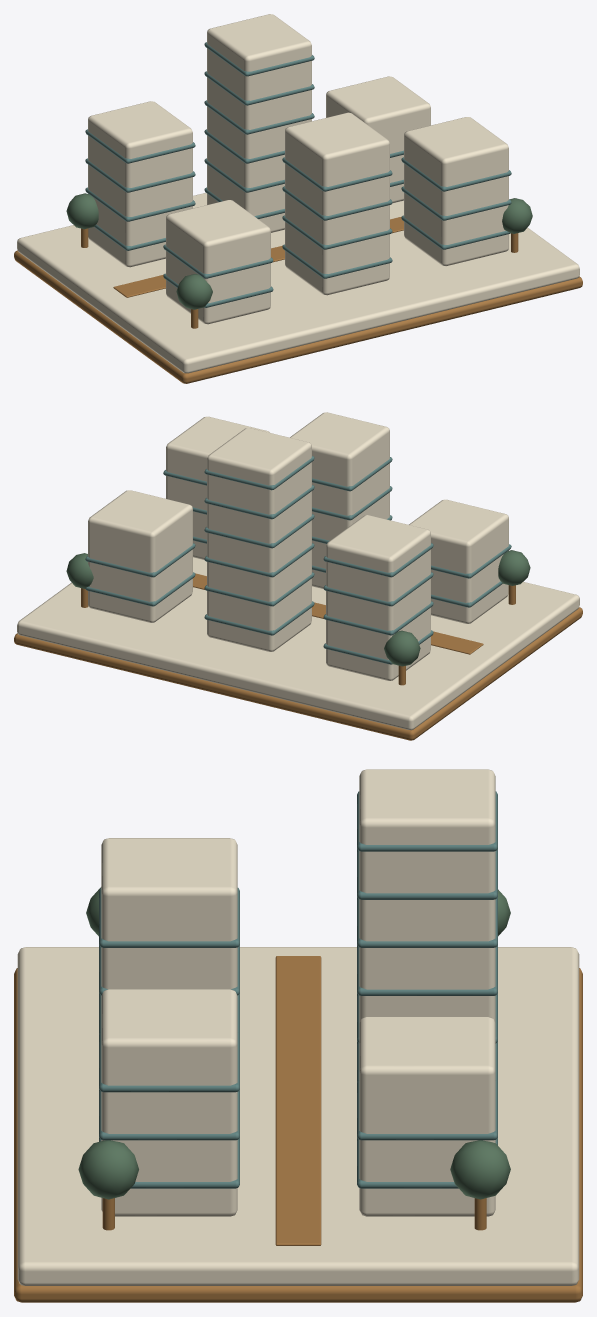
The model's file is district.glb.
3 views of the same model, one above another, from view 1: azimuth 30°, elevation 25°; view 2: azimuth 150°, elevation 25°; view 3: azimuth 270°, elevation 25° (orthographic). The views are drawn at different scales.
Parts seen in each view (by area): view 1: district; view 2: district; view 3: district.
Boxes of the visible parts, x1,y1,x2,y2 form: district: (14,14,582,383); district: (14,412,582,740); district: (14,769,582,1302).
Bounding box in the file's own units: 5.05 × 2.55 × 3.75.
